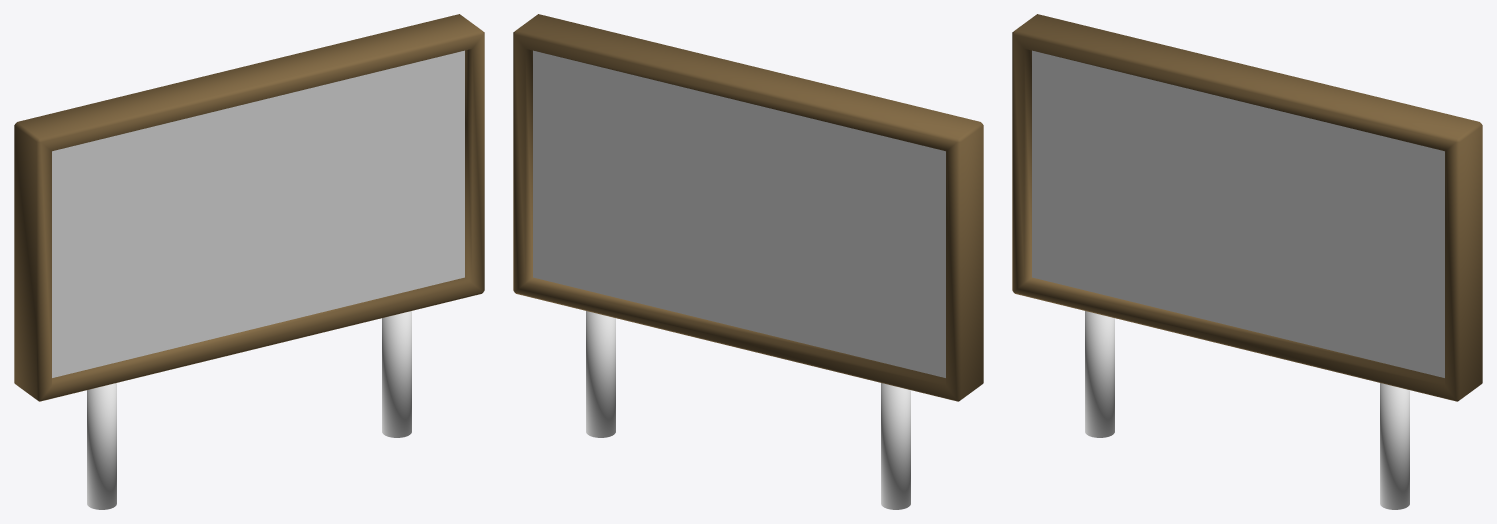
The model's file is billboard.glb.
The picture shows the model from 3 angles, left to right: view 1: azimuth 30°, elevation 25°; view 2: azimuth 150°, elevation 25°; view 3: azimuth 330°, elevation 25°; orthographic projection.
Parts seen in each view (by area): view 1: Cube; view 2: Cube; view 3: Cube.
Boxes of the visible parts, box(x1,y1,x2,y2) form: Cube: box(14, 14, 484, 509); Cube: box(513, 14, 983, 509); Cube: box(1012, 14, 1482, 509).
Size of the model in its own units: 16.2 by 13.52 by 1.6.
